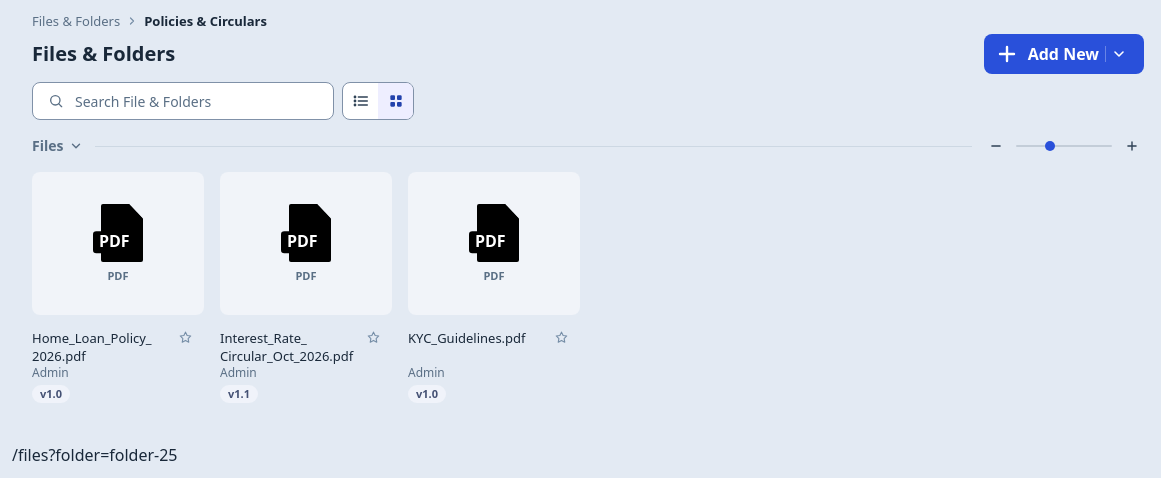
Scenario: the zoom of the file cards › is only in the Files section, and not in the list view
Expected: the slider is shown, [1016, 138, 1112, 154]
What coordinates should you click on to do the following:
click the button named "List view"
I would click on:
 (360, 101)
Its box is [343, 83, 378, 119].
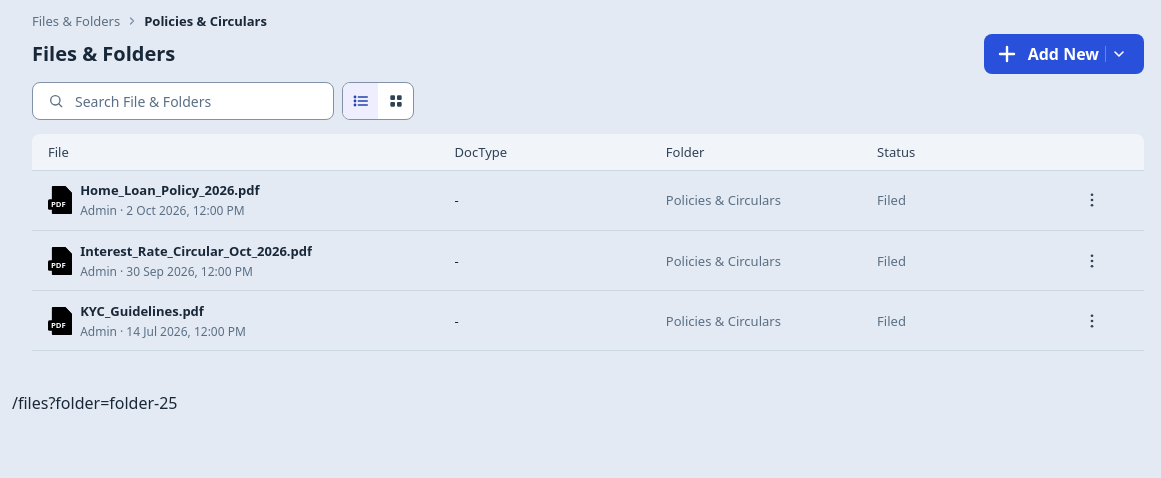
Now the slider is gone
